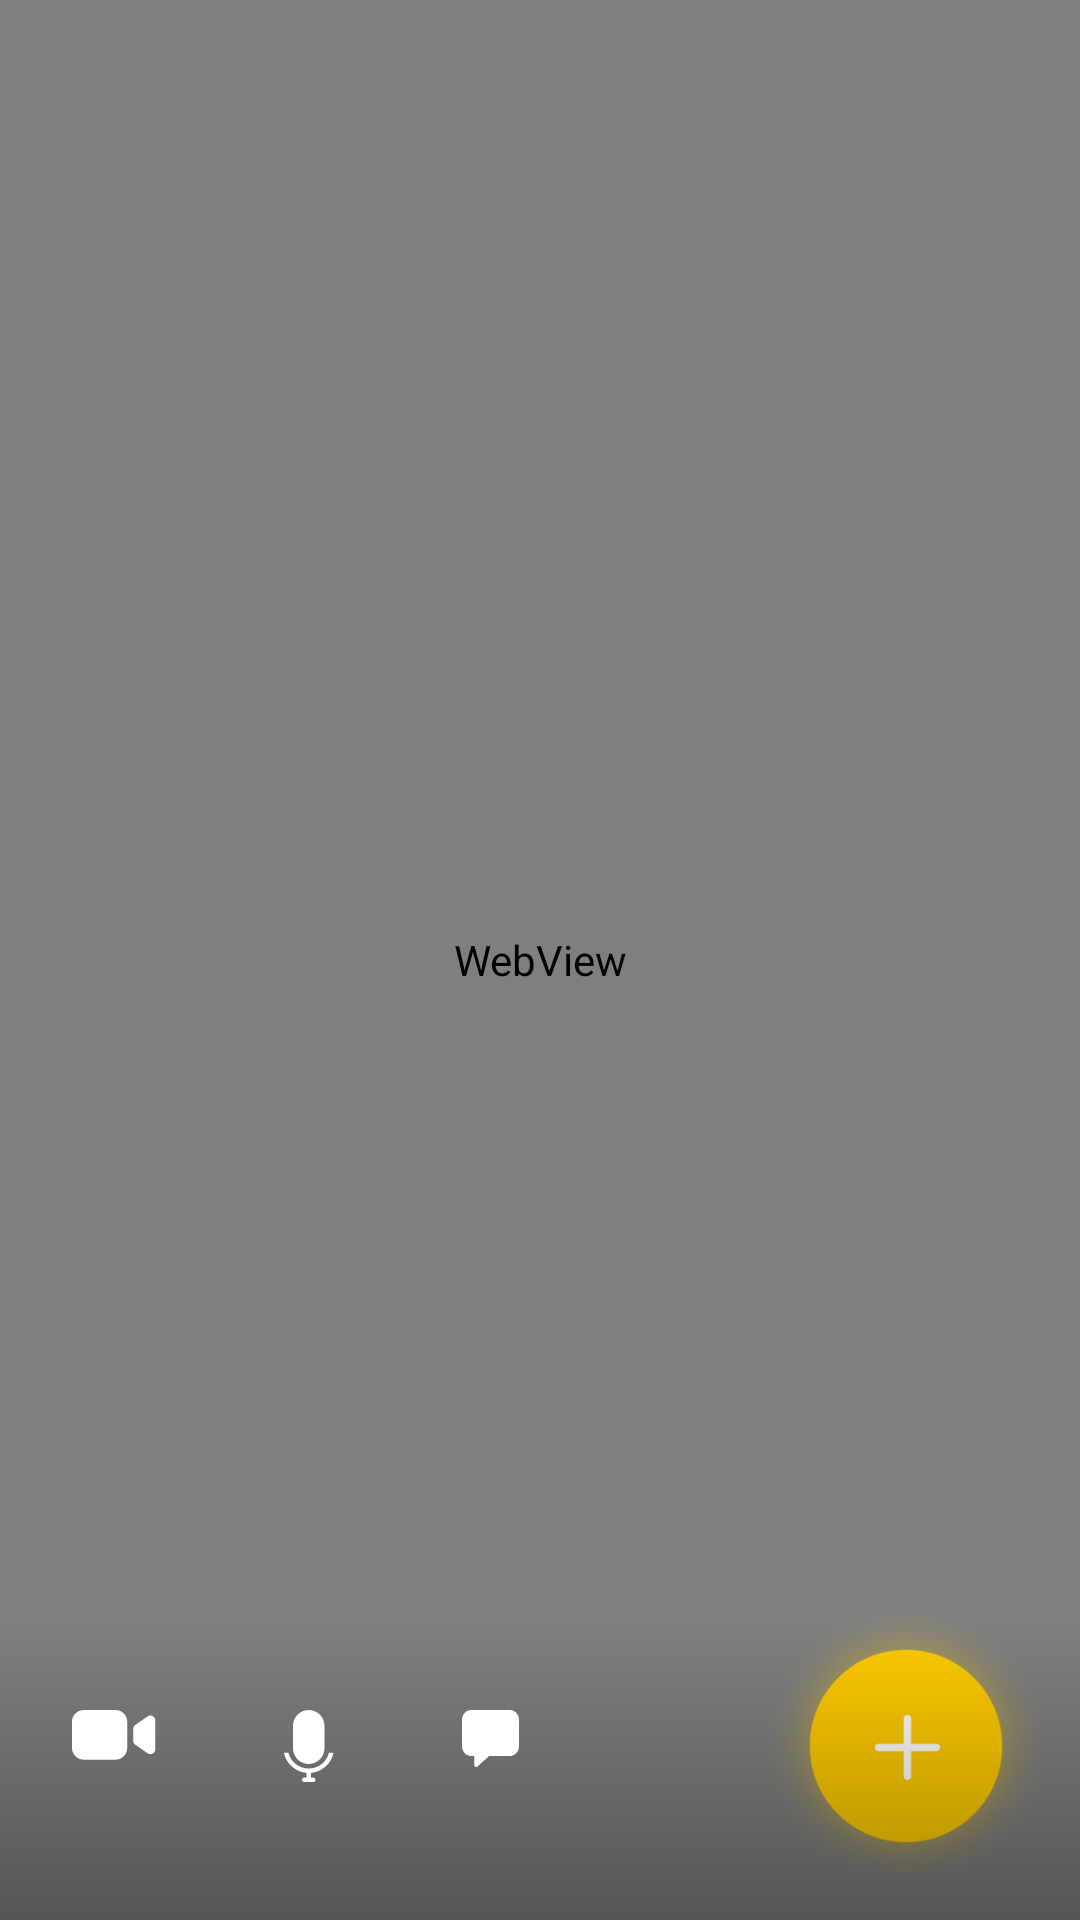

Named icons in this screenshot (1080×1920) and their centers, point (x, y):
chatting: point (490, 1738)
mic: point (309, 1746)
plus hollow: point (906, 1746)
webcam: point (114, 1735)
